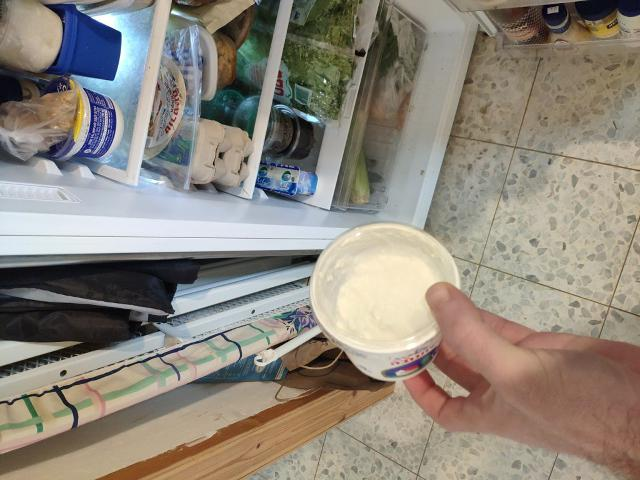cotage: (306, 235, 452, 396)
